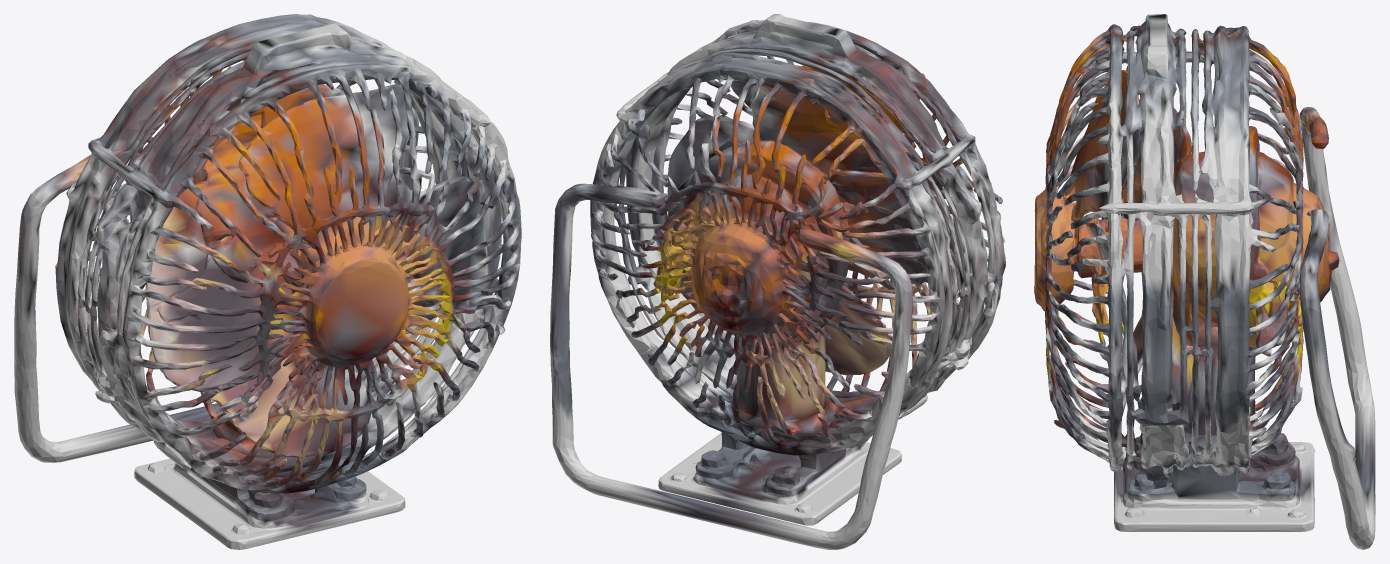
The model's file is machine.glb.
The picture shows the model from 3 angles, left to right: view 1: azimuth 30°, elevation 25°; view 2: azimuth 150°, elevation 25°; view 3: azimuth 270°, elevation 25°; orthographic projection. The views are drawn at different scales.
Parts seen in each view (by area): view 1: tmpfq5clif0.ply; view 2: tmpfq5clif0.ply; view 3: tmpfq5clif0.ply.
Part boxes in pixels (x1=…): tmpfq5clif0.ply: x1=14, y1=14, x2=521, y2=549; tmpfq5clif0.ply: x1=550, y1=14, x2=1005, y2=549; tmpfq5clif0.ply: x1=1034, y1=14, x2=1375, y2=549.
Size of the model in its own units: 1.75 by 1.99 by 1.34.
